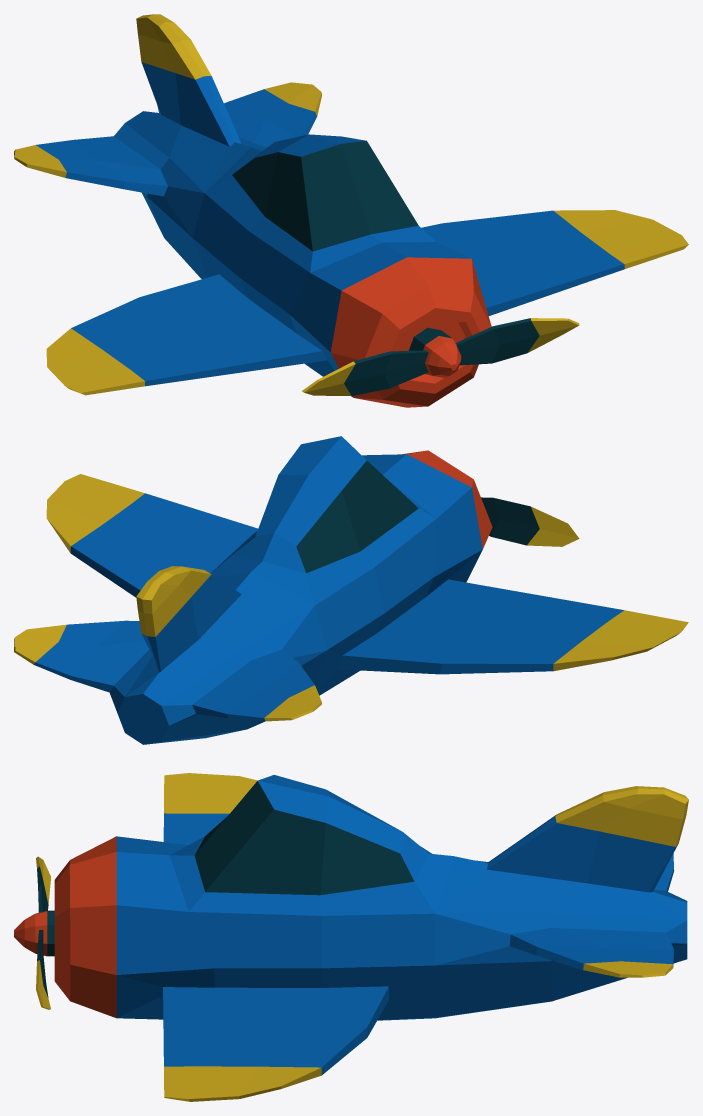
3 views of the same model, one above another, from view 1: azimuth 30°, elevation 25°; view 2: azimuth 150°, elevation 25°; view 3: azimuth 270°, elevation 25° (orthographic). The views are drawn at different scales.
Parts seen in each view (by area): view 1: aviao_1, helice_2; view 2: aviao_1, helice_2; view 3: aviao_1, helice_2.
Boxes of the visible parts, left/top/right/bottom form: aviao_1: left=14, top=14, right=688, bottom=407; helice_2: left=302, top=318, right=579, bottom=395; aviao_1: left=14, top=436, right=688, bottom=744; helice_2: left=481, top=497, right=579, bottom=546; aviao_1: left=54, top=773, right=688, bottom=1101; helice_2: left=14, top=856, right=54, bottom=1009.
Size of the model in its own units: 7.45 by 2.58 by 6.51.
